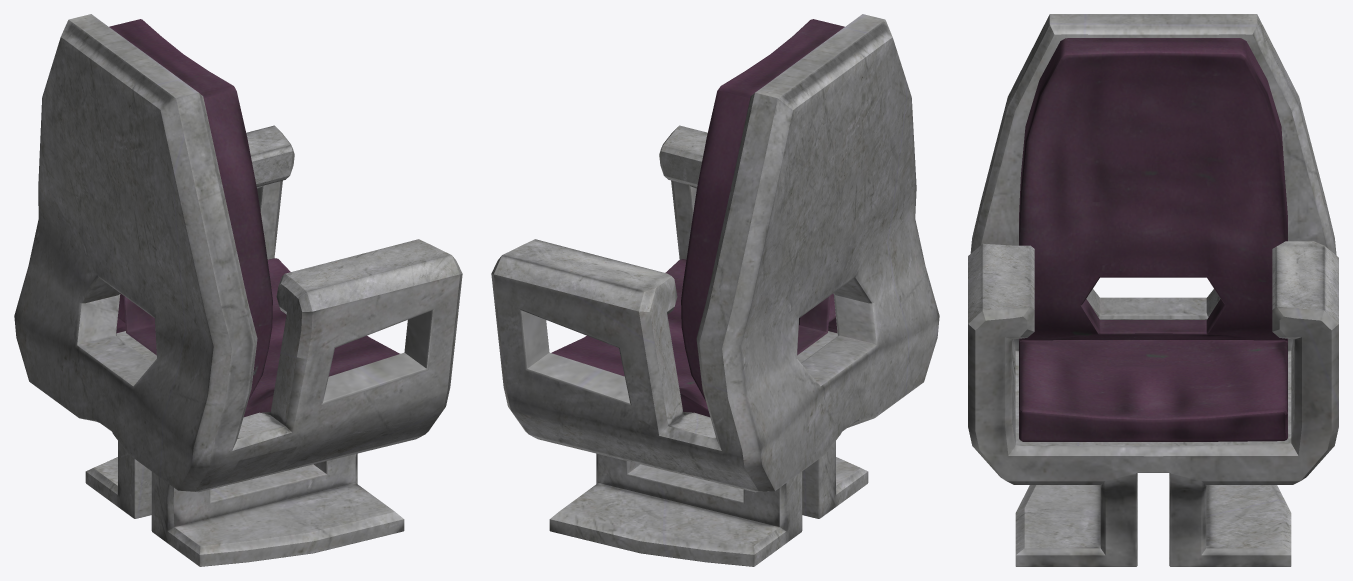
Rendered from plumChair.fbx.
3 renders of one model, left to right at view 1: azimuth 30°, elevation 25°; view 2: azimuth 150°, elevation 25°; view 3: azimuth 270°, elevation 25°, orthographic. The views are drawn at different scales.
Parts seen in each view (by area): view 1: chair2; view 2: chair2; view 3: chair2.
Boxes of the visible parts, x1=… form: chair2: x1=14, y1=14, x2=462, y2=566; chair2: x1=491, y1=14, x2=939, y2=566; chair2: x1=968, y1=14, x2=1338, y2=566.
Bounding box in the file's own units: 66.88 × 113 × 83.6.
Materials: 1 (1 with a texture image).
